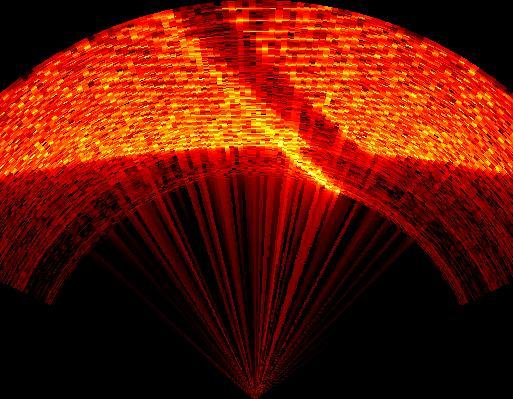pipe: (155, 11, 371, 198)
